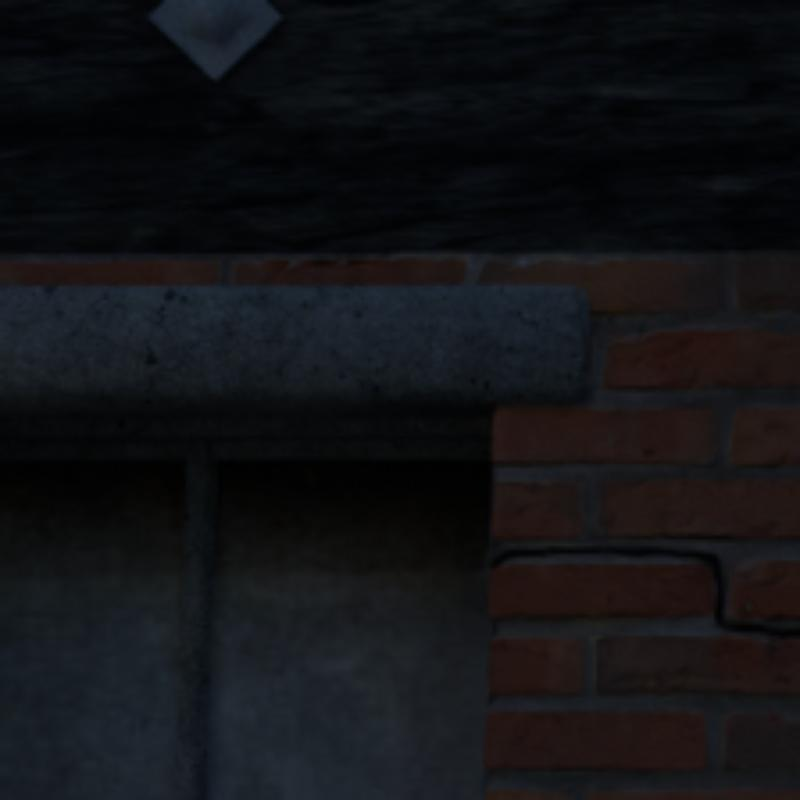pothole: (489, 546, 796, 639)
